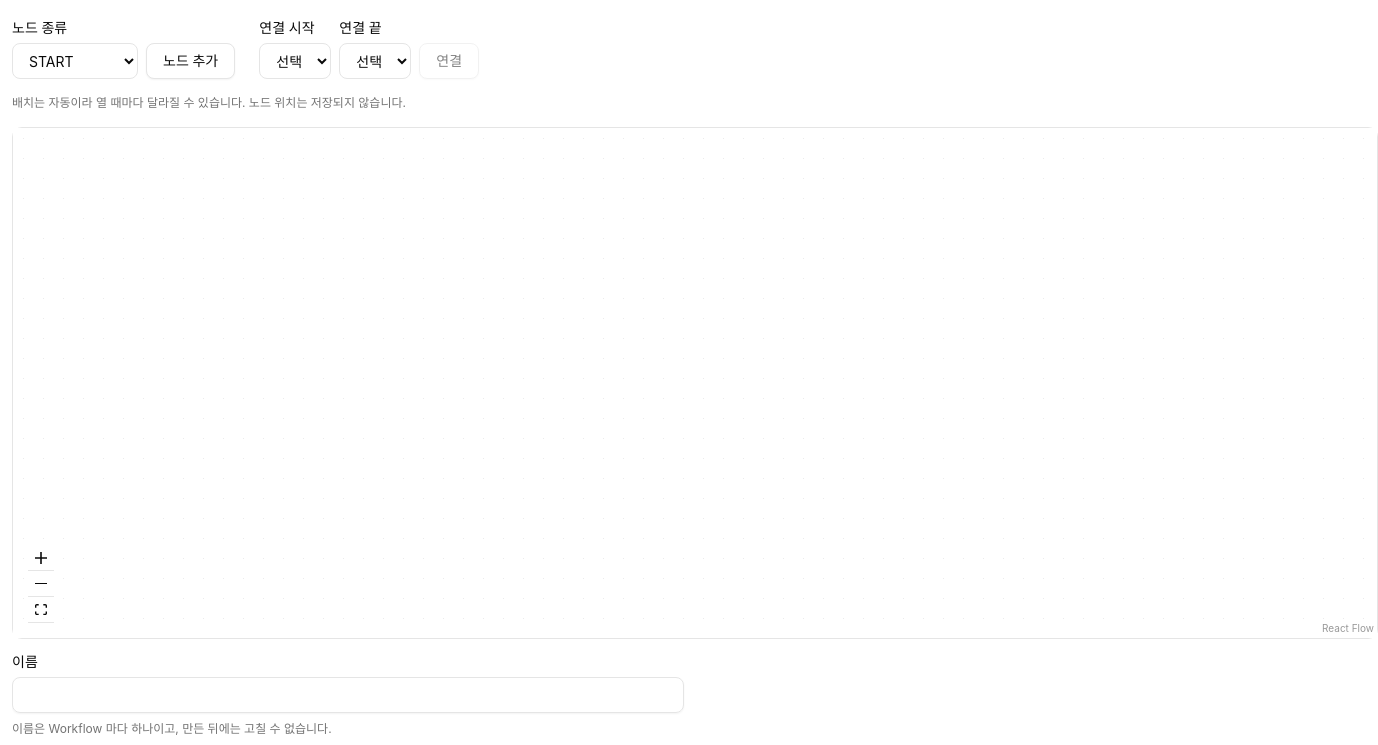
WorkflowEditor - 저장 (spec 0007 R-4, D-9; plan P5-6 판정) › 액션이 던져도 문구를 보이지 않고 입력은 남는다
Type "w" into the field labelled "이름" at (348, 695), box [12,677,684,713]
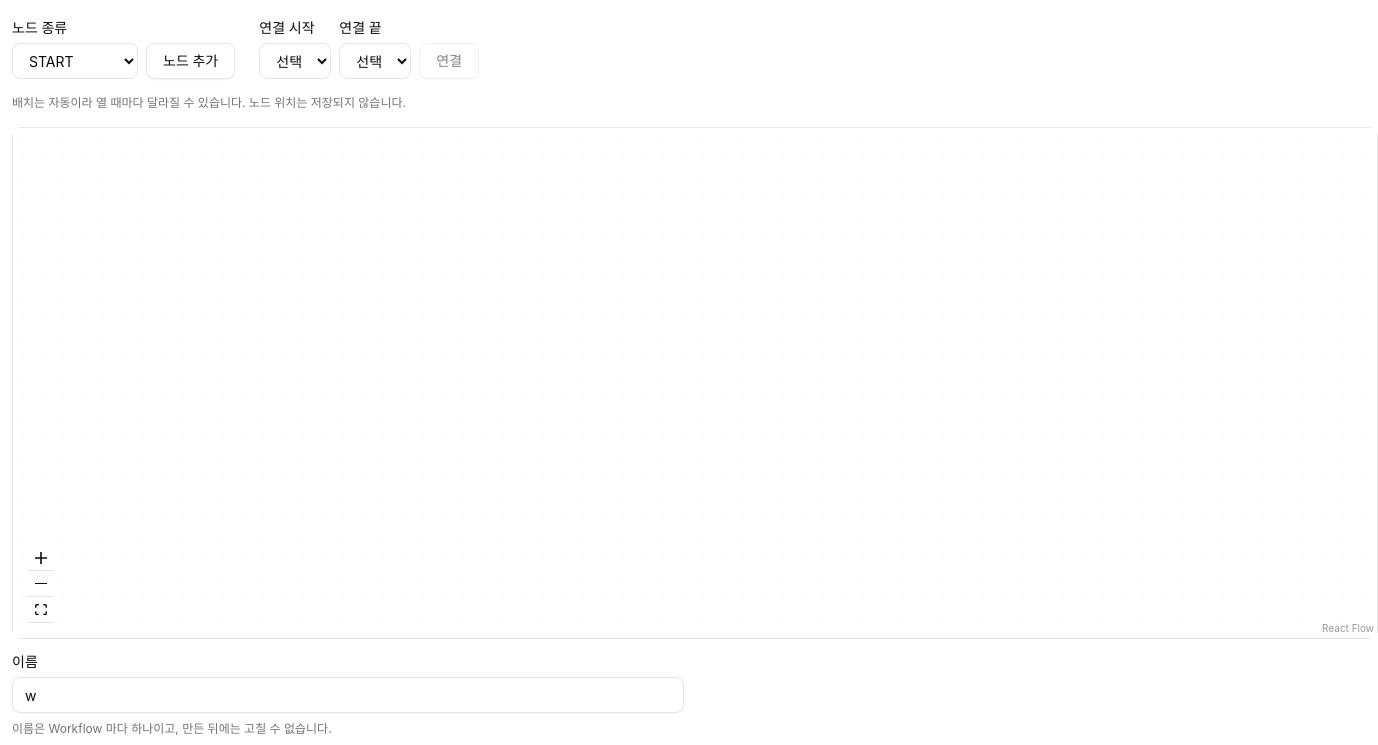
Select "START" in the dropdown labelled "노드 종류" at (75, 61), box [12,43,138,79]
Click the button "노드 추가" at (191, 61), box [146,43,235,79]
(page scrolled)
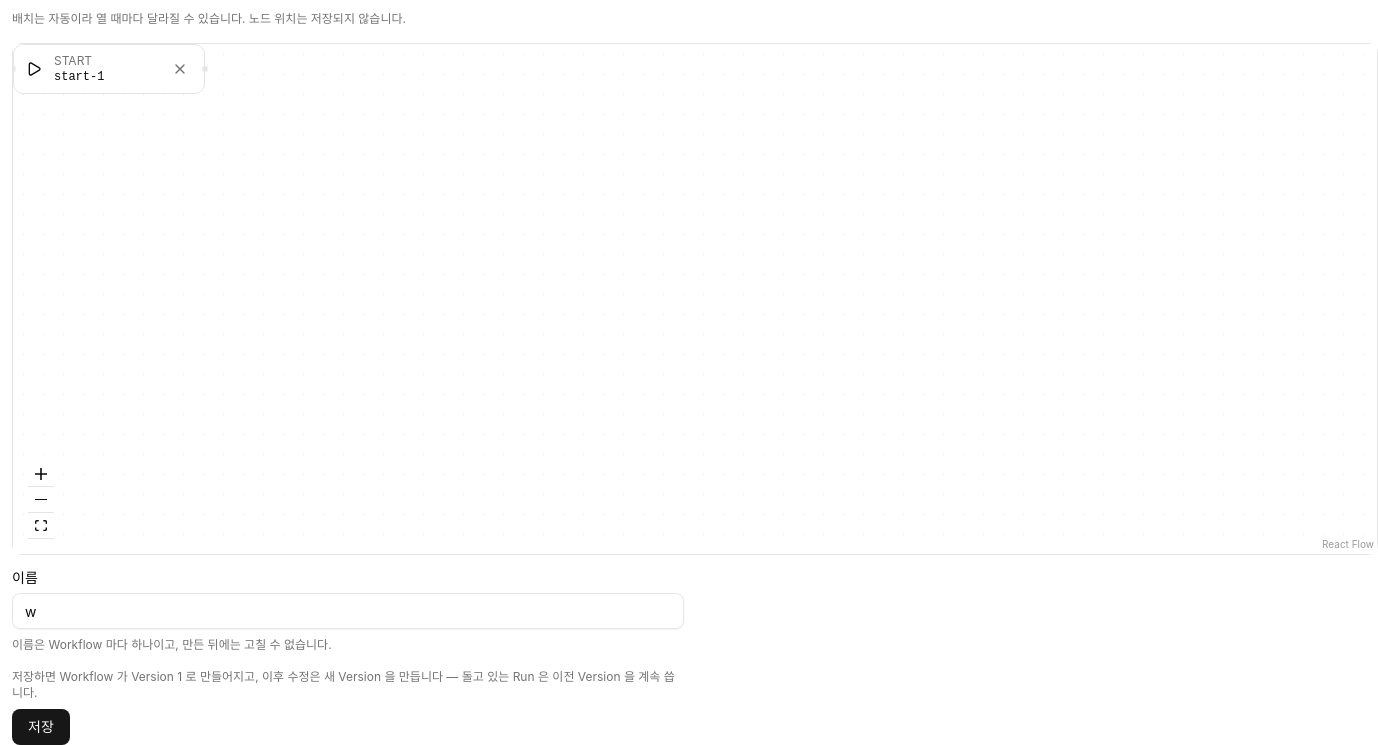
Click the button "저장" at (41, 727), box [12,709,70,744]
(page scrolled)
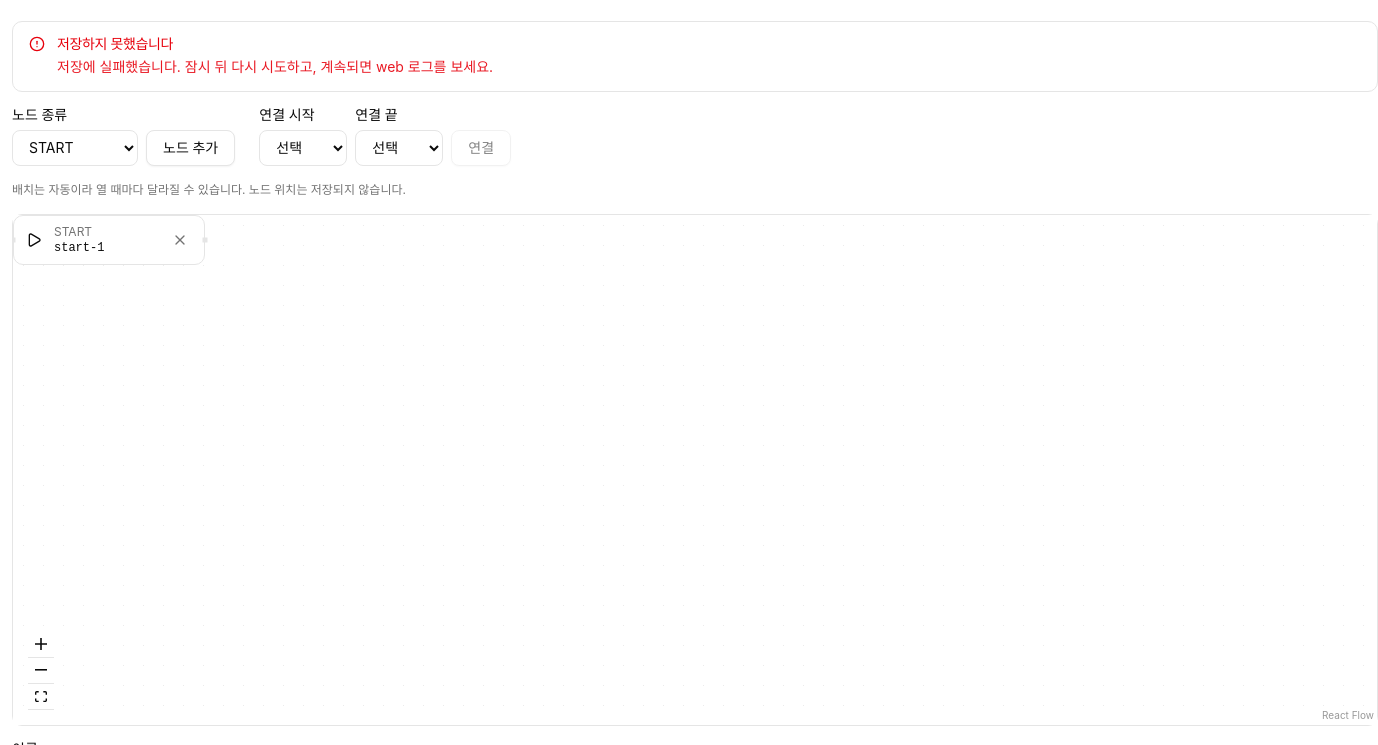
Expected: the text "저장에 실패했습니다. 잠시 뒤 다시 시도하고, 계속되면 web 로그를 보세요." is shown, [57,56,493,79]
